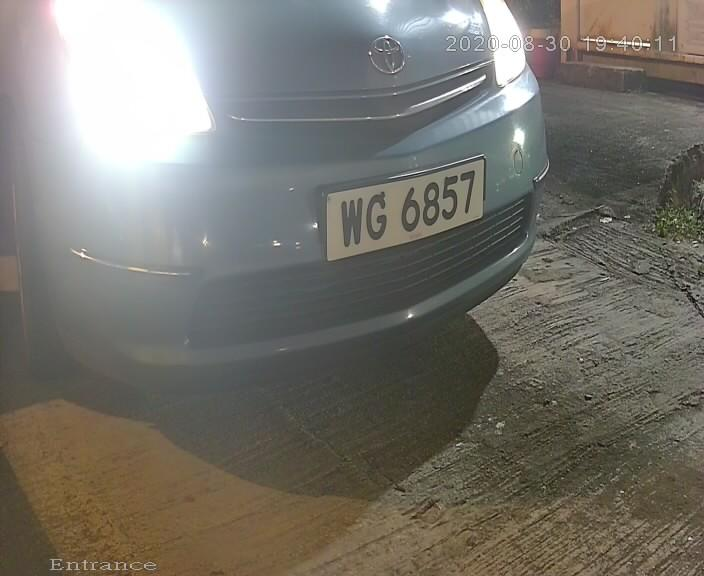License Plate: (321, 150, 491, 271)
